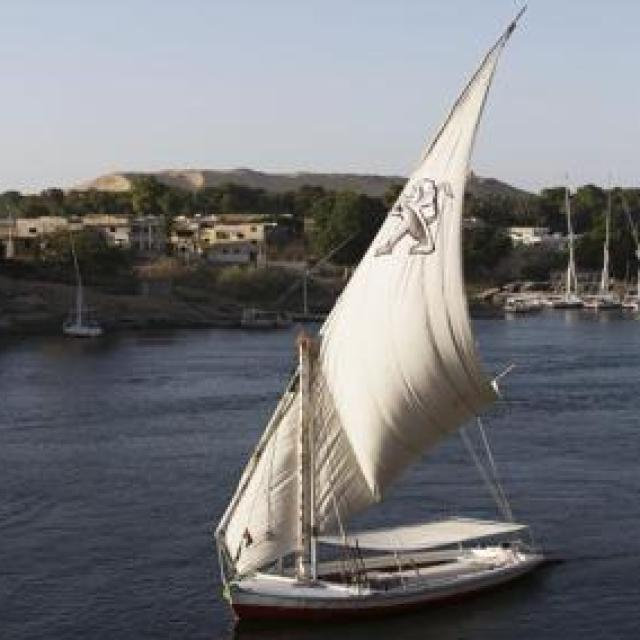sailboat: (214, 0, 548, 615)
